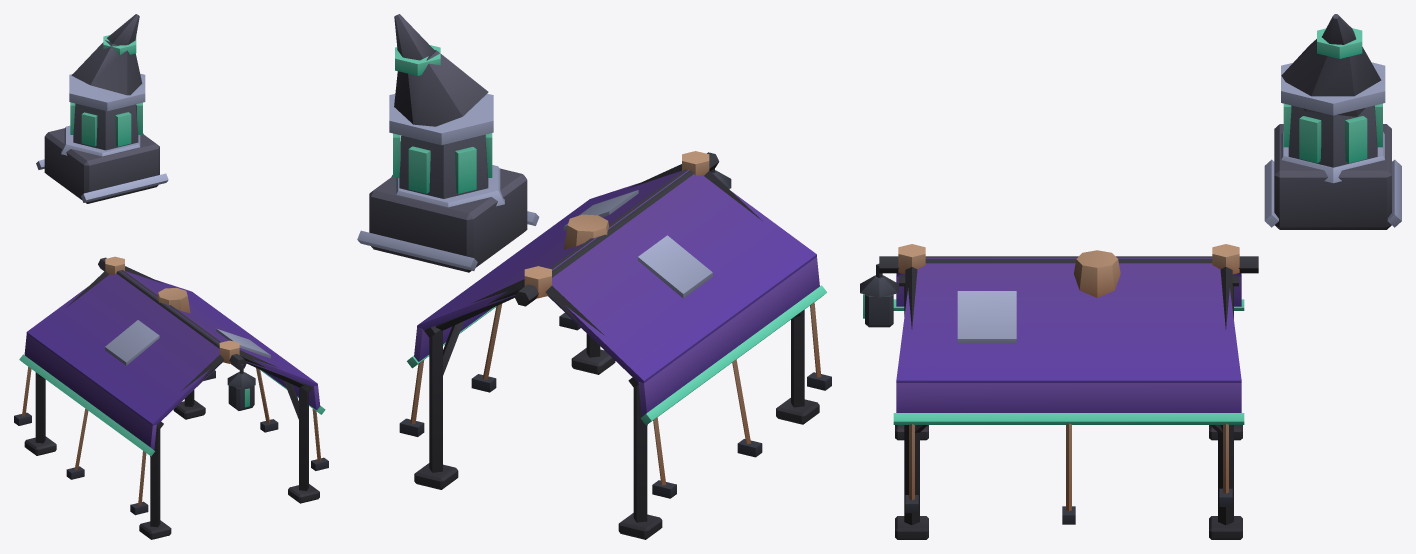
File: hidden-skill.glb
3 views of the same model, side by side, from view 1: azimuth 30°, elevation 25°; view 2: azimuth 150°, elevation 25°; view 3: azimuth 270°, elevation 25° (orthographic). The views are drawn at different scales.
Visible parts, largest first — view 1: skill; view 2: skill; view 3: skill.
Part boxes in pixels (<box>): skill: <box>14,14,328,539</box>; skill: <box>357,14,831,539</box>; skill: <box>860,14,1401,539</box>.
Bounding box in the file's own units: 2.5 × 4.31 × 4.14.
